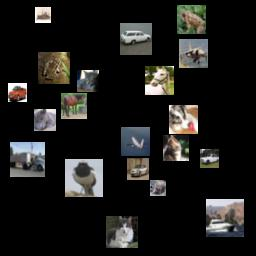airplane: (121, 127, 150, 156), (179, 39, 208, 68)
automobile: (120, 23, 152, 55), (127, 158, 149, 180), (200, 149, 219, 168), (8, 83, 27, 102)
bird: (65, 159, 103, 197)
cat: (106, 216, 138, 248), (163, 135, 189, 161), (34, 109, 56, 131), (77, 70, 99, 92)
dog: (169, 105, 198, 134), (150, 180, 166, 196)
frog: (38, 52, 70, 84), (177, 5, 206, 34)
ship: (206, 199, 244, 237), (35, 7, 51, 23)
truck: (10, 142, 45, 177)
